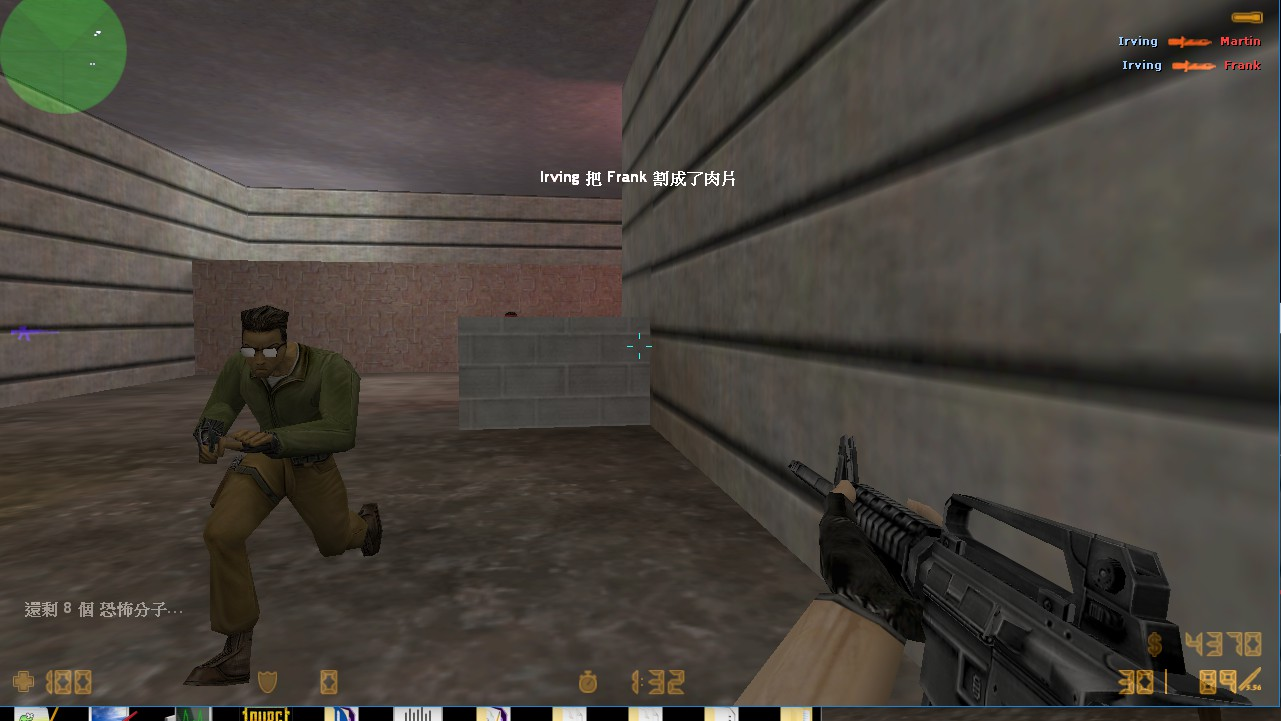person: (183, 306, 398, 687)
